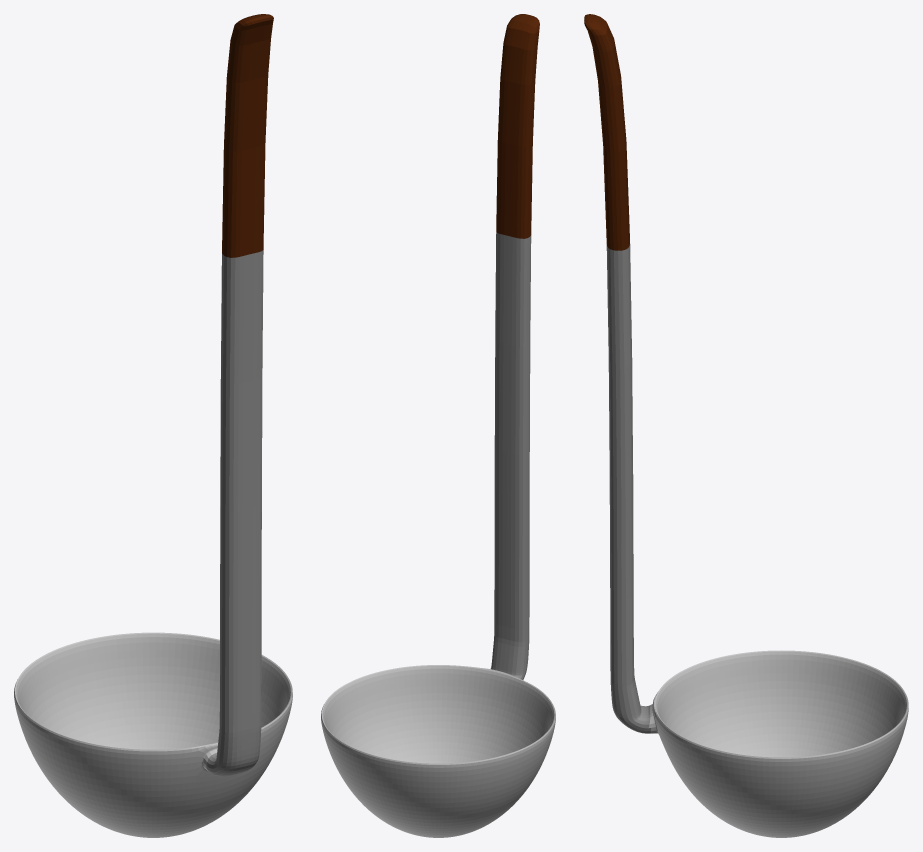
File: Res01_Spoon2.fbx
3 renders of one model, left to right at view 1: azimuth 30°, elevation 25°; view 2: azimuth 150°, elevation 25°; view 3: azimuth 270°, elevation 25°, orthographic. The views are drawn at different scales.
Parts seen in each view (by area): view 1: Res01_Spoon2; view 2: Res01_Spoon2; view 3: Res01_Spoon2.
Part boxes in pixels (x1,y1,x2,y2): Res01_Spoon2: (14, 14, 292, 837); Res01_Spoon2: (321, 14, 555, 837); Res01_Spoon2: (584, 14, 908, 837).
Bounding box in the file's own units: 22.19 × 78.05 × 28.31.
